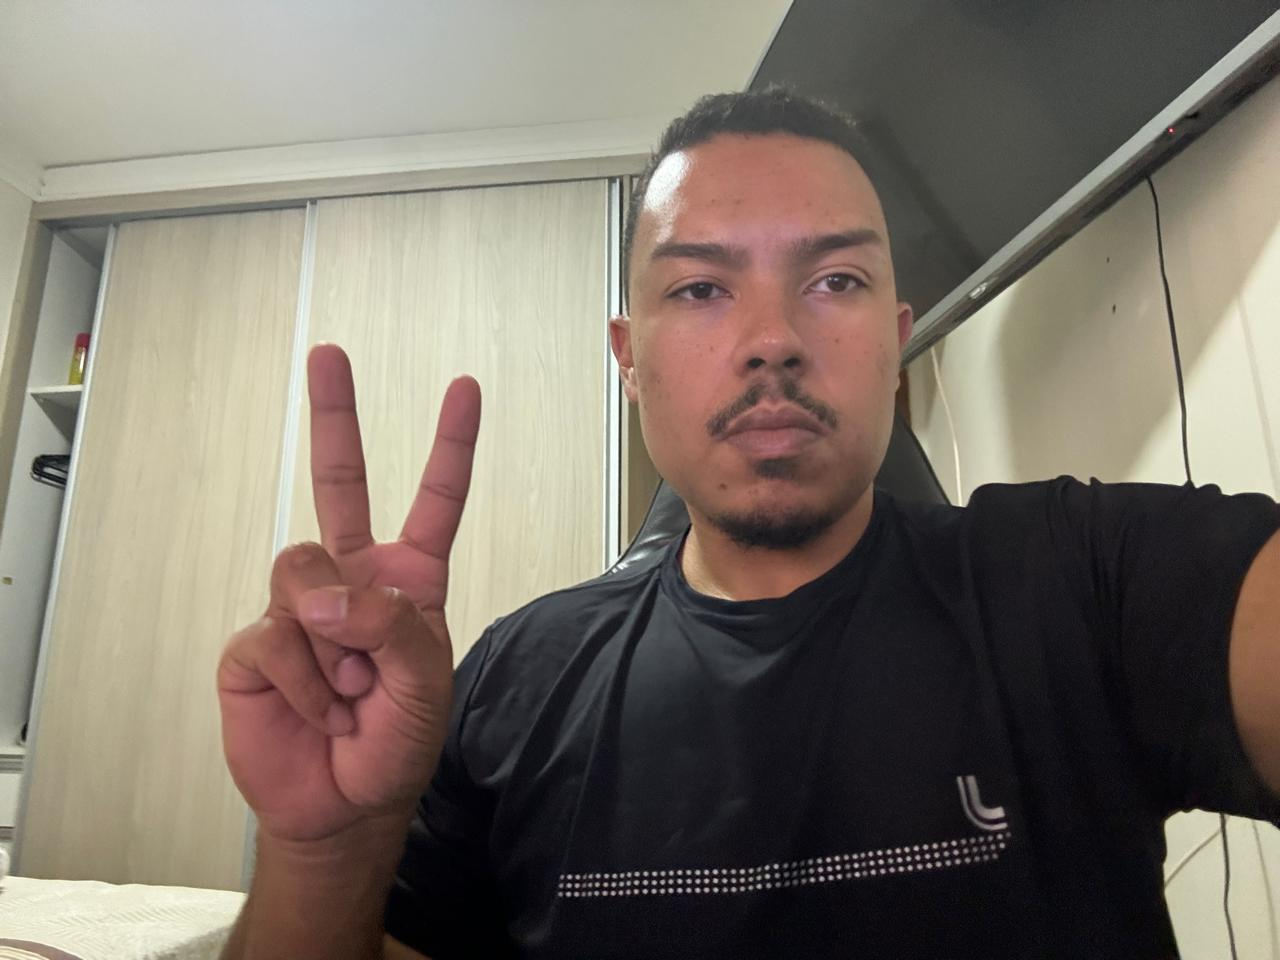v: (208, 333, 488, 849)
